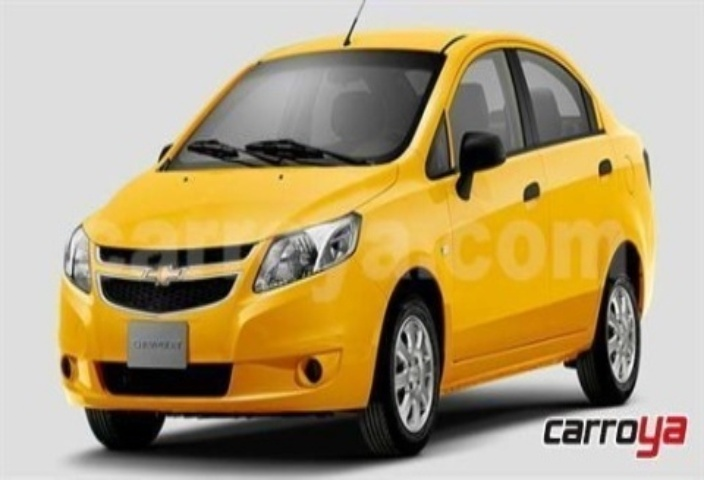taxi: (60, 25, 668, 457)
